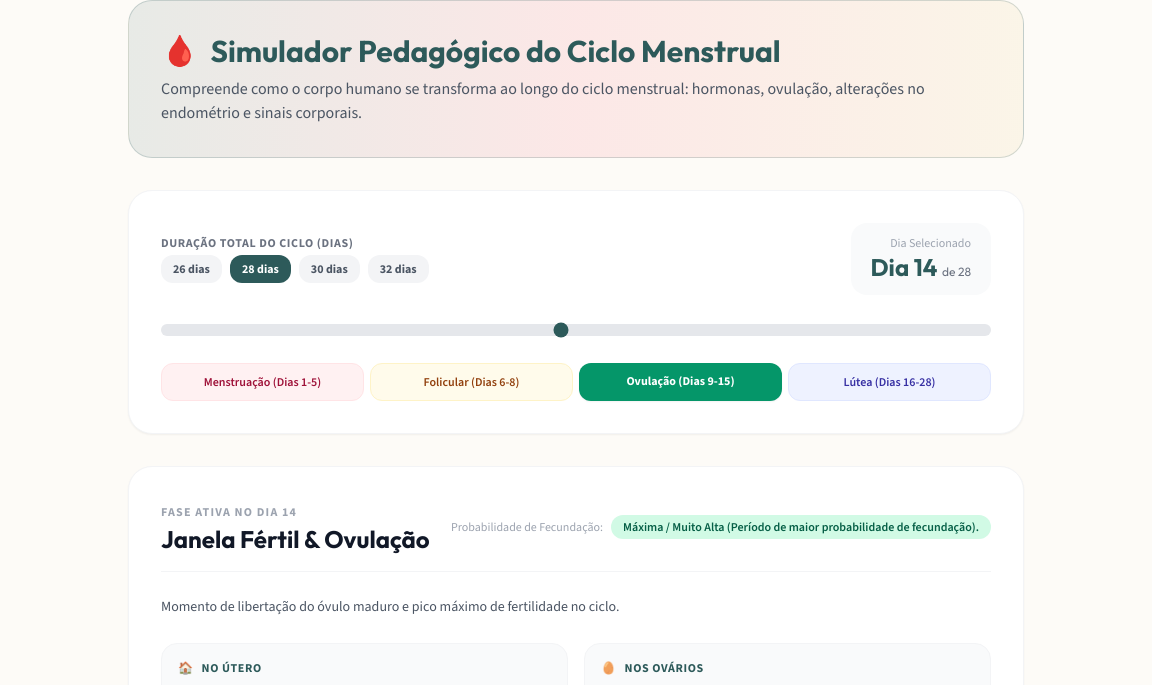
it: MenstrualCycleSim › shows follicular phase details for day 8
The width and height of the screenshot is (1152, 685).
Click the text "Folicular (Dias 6-8)".
click(472, 382)  # box [370,363,573,401]
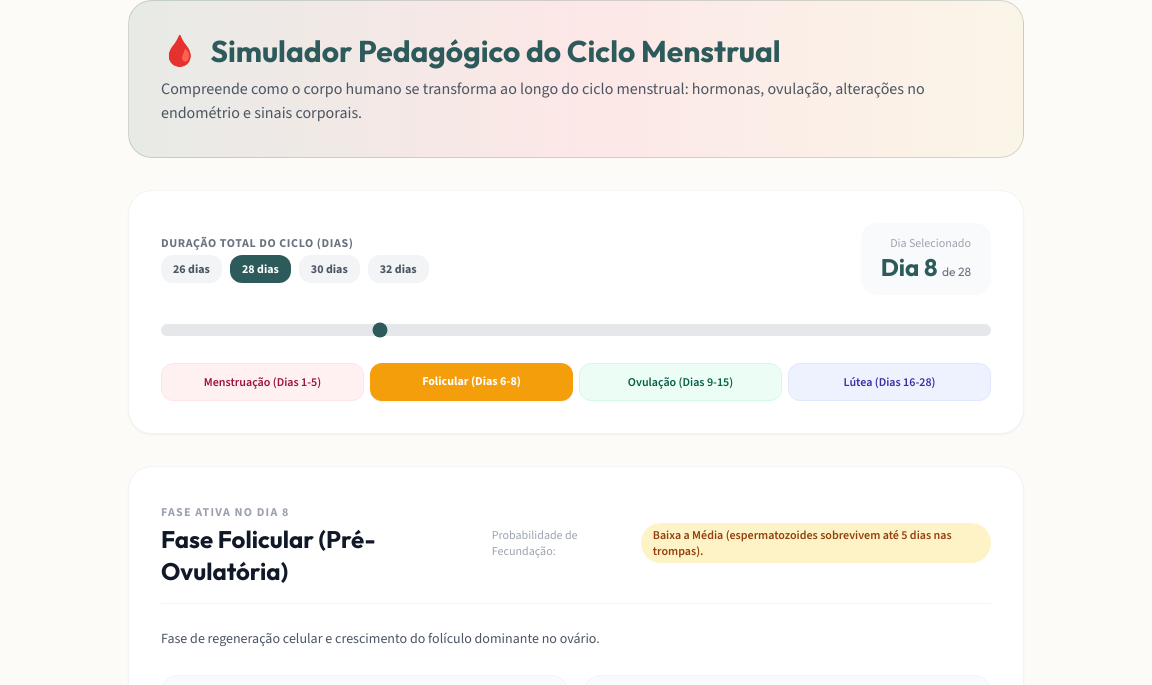
Now the heading "Fase Folicular (Pré-Ovulatória)" is shown, box [161,524,376,586]
Now the text "Baixa a Média" is shown, box [653,527,952,559]
